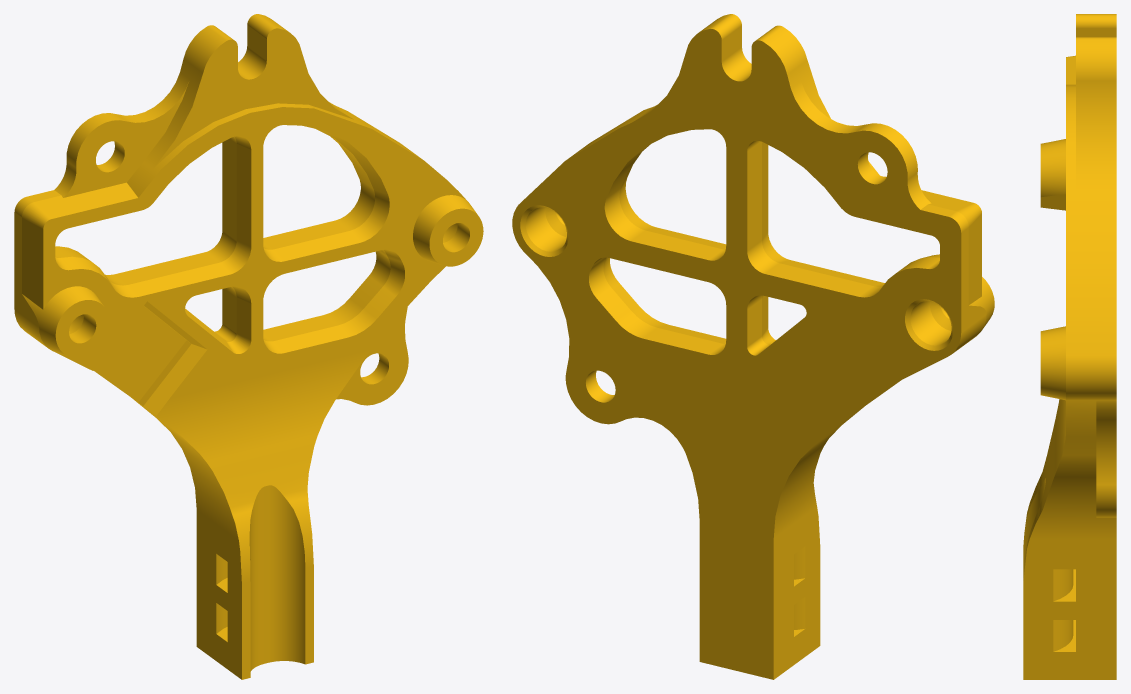
Rendered from A4T - THB Mount - LGX-L.gltf.
The picture shows the model from 3 angles, left to right: view 1: azimuth 30°, elevation 25°; view 2: azimuth 150°, elevation 25°; view 3: azimuth 270°, elevation 25°; orthographic projection. The views are drawn at different scales.
Visible parts, largest first — view 1: A4T - THB Mount - LGX-L; view 2: A4T - THB Mount - LGX-L; view 3: A4T - THB Mount - LGX-L.
Boxes of the visible parts, x1,y1,x2,y2 form: A4T - THB Mount - LGX-L: (14,14,483,679); A4T - THB Mount - LGX-L: (512,14,994,679); A4T - THB Mount - LGX-L: (1023,14,1116,679).
Bounding box in the file's own units: 0.0512 × 0.0693 × 0.0092.
